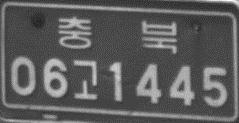0: (11, 56, 35, 96)
1: (107, 61, 125, 103)
4: (135, 63, 162, 103), (168, 65, 194, 105)
5: (201, 67, 227, 106)
6: (43, 57, 67, 99)
고: (72, 59, 98, 100)
충북_D: (58, 15, 178, 55)
